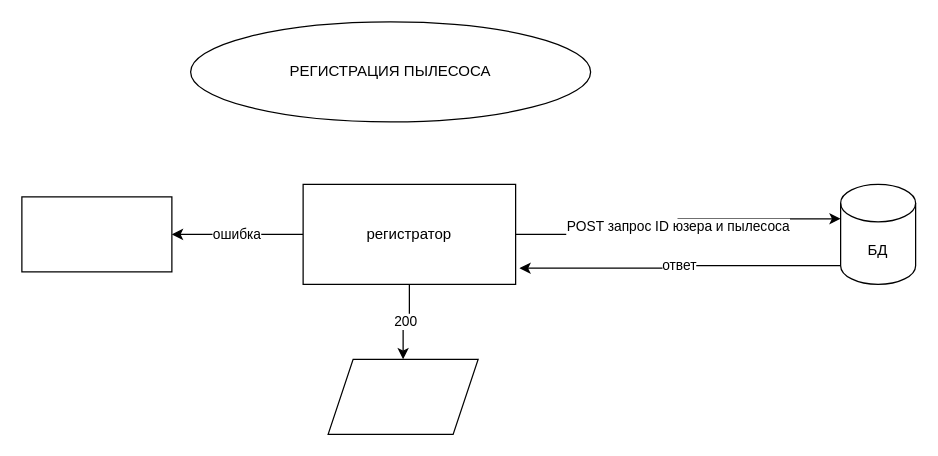
The diagram is 938 pixels wide and 456 high, and some of its shapes have lost their labels. Each missing label, with the centre of its shape:
"компонент меню" goes at (x=402, y=396).
"сообщение об ошибке" goes at (x=96, y=234).
